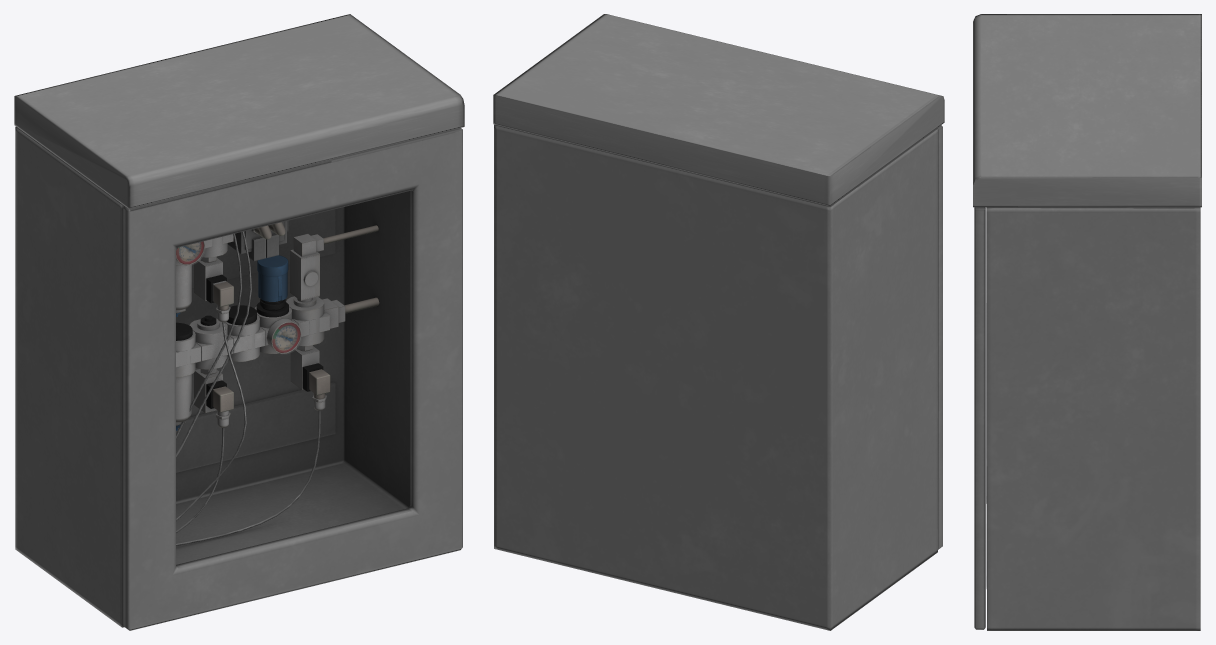
Rendered from manometro.fbx.
3 renders of one model, left to right at view 1: azimuth 30°, elevation 25°; view 2: azimuth 150°, elevation 25°; view 3: azimuth 270°, elevation 25°, orthographic.
Parts seen in each view (by area): view 1: polySurface578, polySurface577, pCube1, pCube47, pCube48, polySurface638, pCube41, polySurface648, polySurface609, pCube34, pCube11, polySurface650 (+5 smaller); view 2: polySurface578, pCube1, polySurface577; view 3: polySurface578, pCube1, polySurface577.
Part boxes in pixels (x1,y1,x2,y2): polySurface578: (15, 126, 410, 627); polySurface577: (123, 128, 462, 630); pCube1: (14, 14, 464, 208); pCube47: (176, 382, 335, 472); pCube48: (192, 209, 335, 288); polySurface638: (257, 255, 288, 301); pCube41: (290, 249, 319, 300); polySurface648: (286, 296, 324, 346); polySurface609: (189, 318, 227, 369); pCube34: (290, 346, 319, 389); pCube11: (194, 258, 222, 300); polySurface650: (224, 315, 259, 361); polySurface578: (494, 124, 937, 630); pCube1: (493, 14, 944, 206); polySurface577: (937, 125, 942, 549); polySurface578: (986, 207, 1200, 630); pCube1: (973, 14, 1201, 207); polySurface577: (974, 207, 985, 629).
Bounding box in the file's own units: 29.77 × 38.38 × 17.56.
